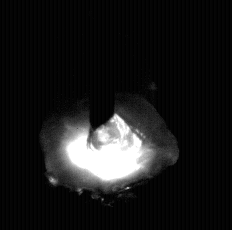arame: (90, 0, 115, 131)
poca: (40, 0, 179, 230)
